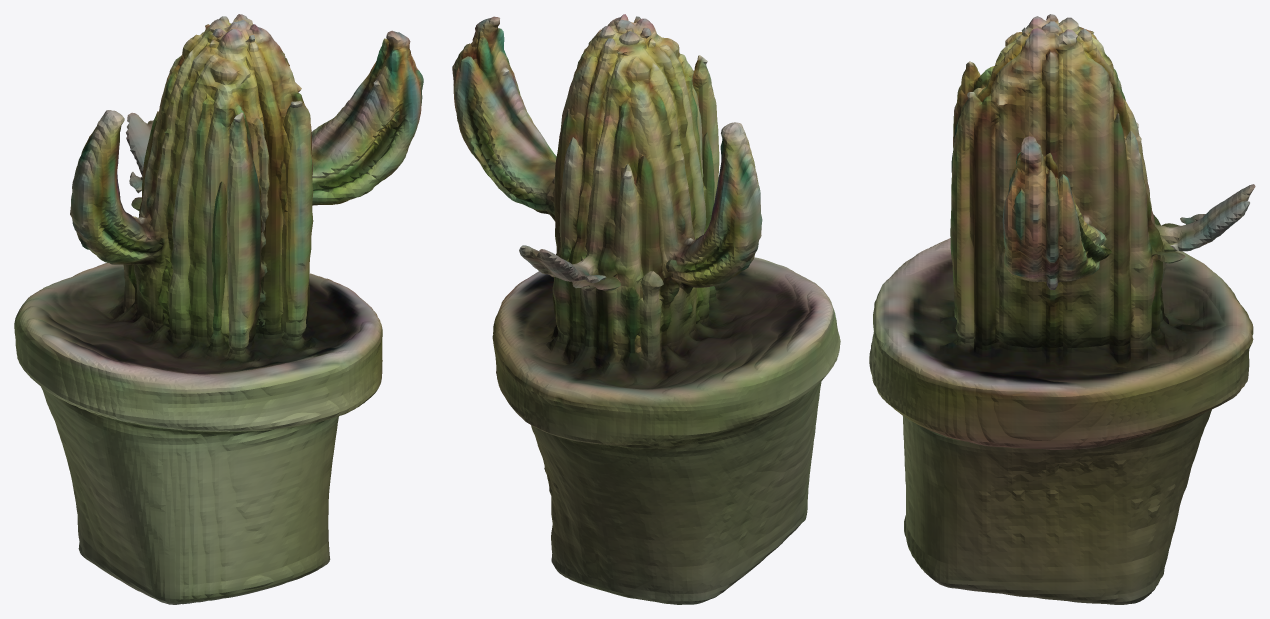
The model's file is cactus.glb.
3 views of the same model, side by side, from view 1: azimuth 30°, elevation 25°; view 2: azimuth 150°, elevation 25°; view 3: azimuth 270°, elevation 25° (orthographic). The views are drawn at different scales.
Visible parts, largest first — view 1: geometry_0; view 2: geometry_0; view 3: geometry_0.
Part boxes in pixels (left/top/right/bottom): geometry_0: left=14, top=14, right=423, bottom=604; geometry_0: left=452, top=14, right=840, bottom=604; geometry_0: left=869, top=14, right=1255, bottom=604.
Bounding box in the file's own units: 0.7132 × 1 × 0.6149.
